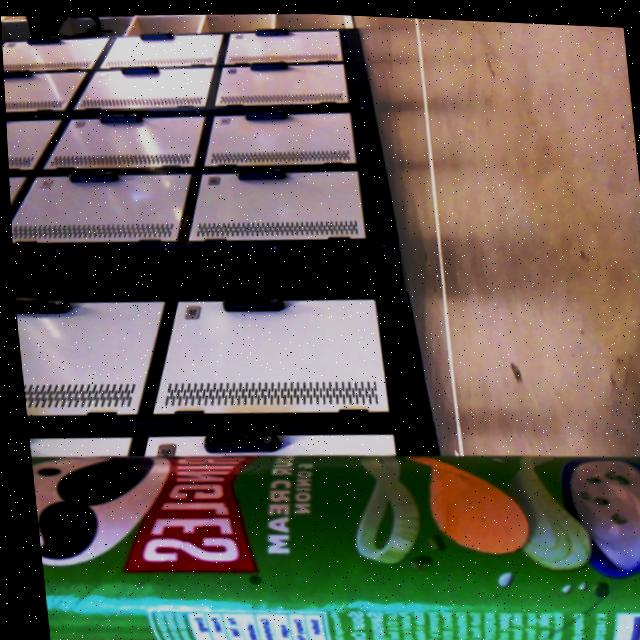greenpringles: (21, 404, 640, 640)
